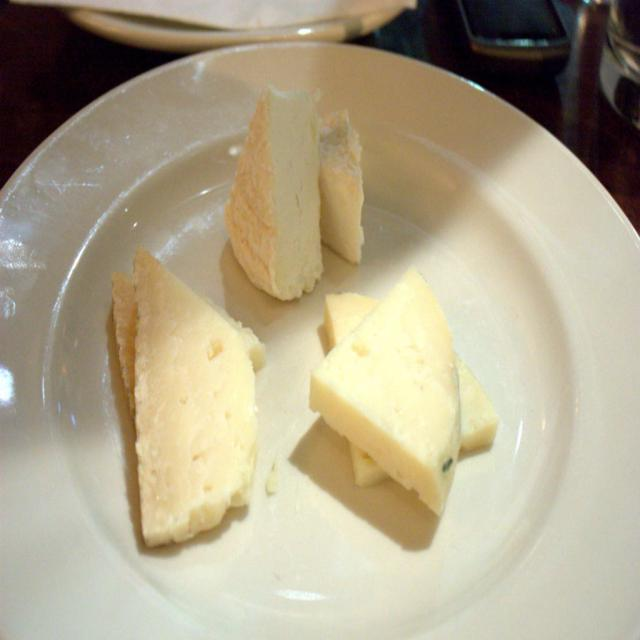Cheese: (303, 262, 465, 517), (137, 244, 259, 548), (323, 288, 501, 488), (218, 82, 320, 298), (114, 267, 265, 379), (315, 111, 365, 262)
